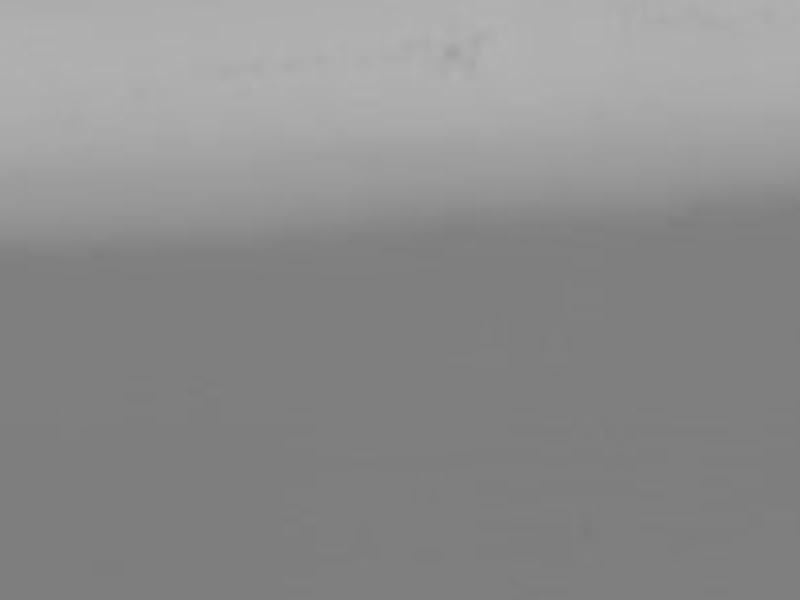defect: (461, 57, 481, 81), (438, 39, 461, 59), (468, 32, 491, 51)
